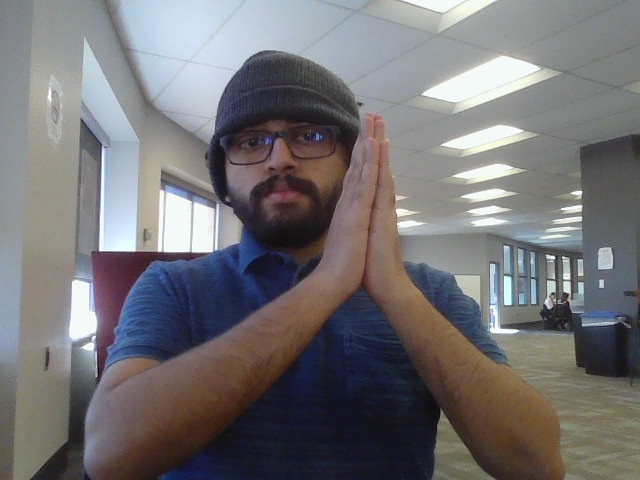start: (312, 107, 411, 313)
